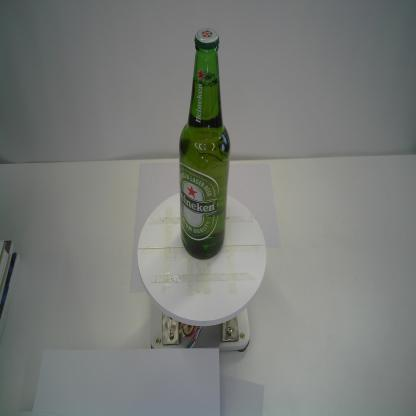Alcohol: (176, 26, 232, 262)
